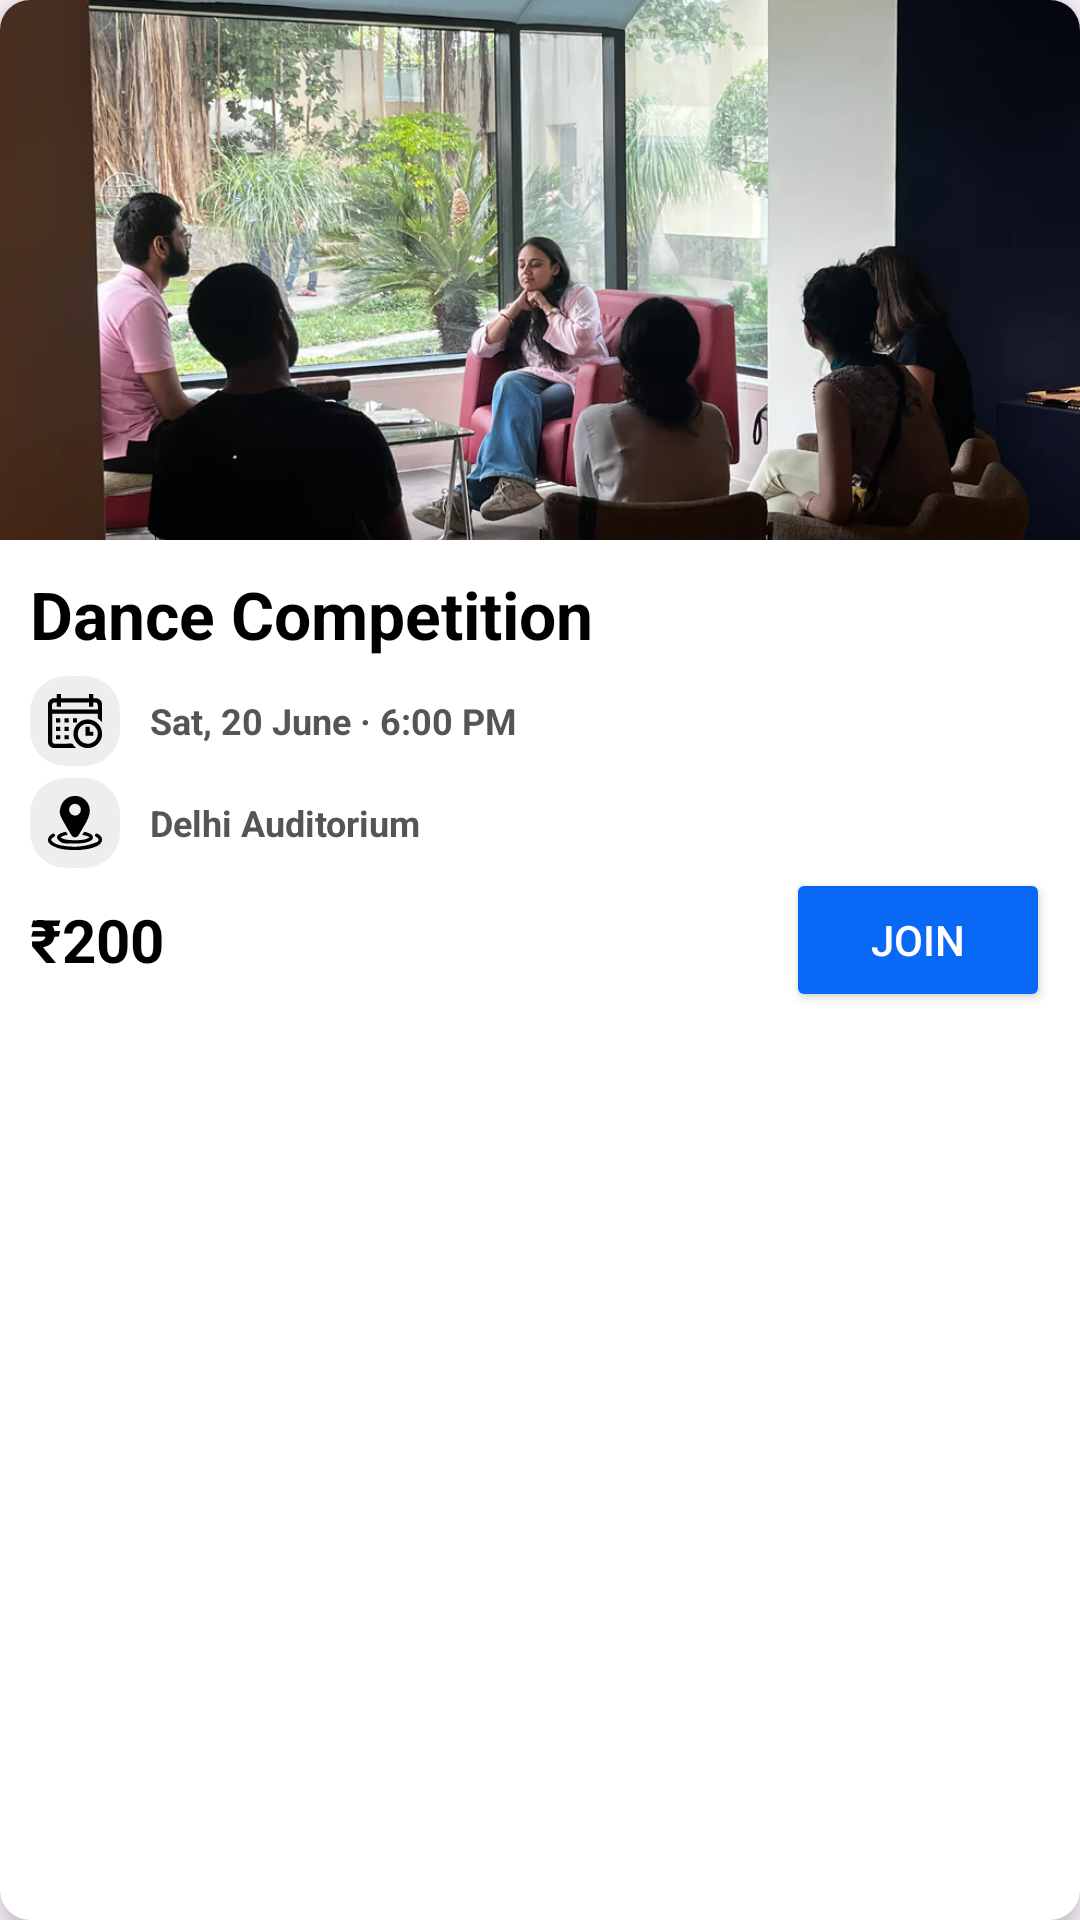

Named icons in this screenshot (1080×1920) and their centers, (x=x, y=y):
calendar: (x=75, y=721)
location: (x=75, y=823)
